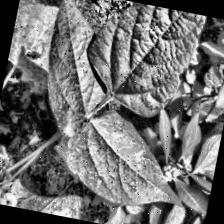ALS: (94, 0, 224, 129), (51, 108, 198, 210), (33, 0, 119, 135)
